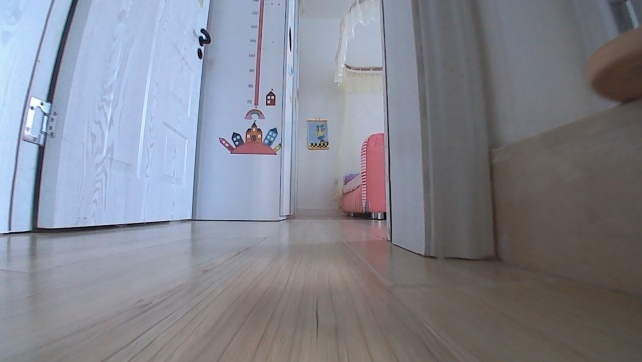bed1: (336, 128, 388, 220)
door_anno: (0, 0, 217, 241)
